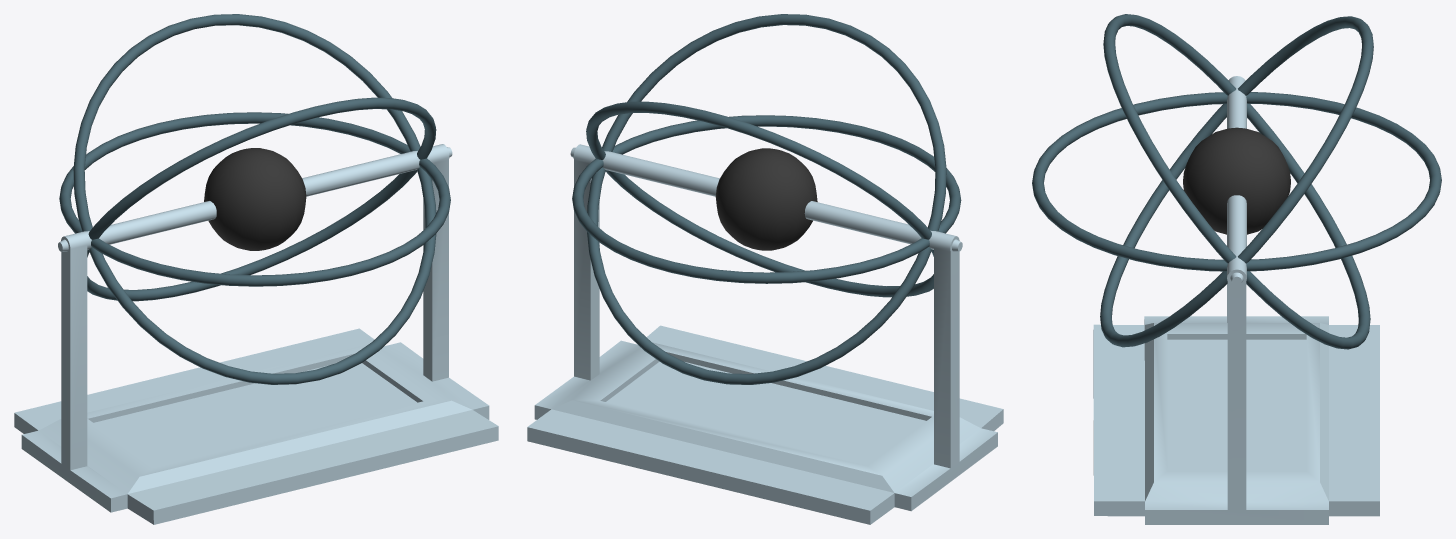
Rendered from Character_Rooms_Atom.fbx.
3 views of the same model, side by side, from view 1: azimuth 30°, elevation 25°; view 2: azimuth 150°, elevation 25°; view 3: azimuth 270°, elevation 25° (orthographic). The views are drawn at different scales.
Parts seen in each view (by area): view 1: Torus.001; view 2: Torus.001; view 3: Torus.001.
Boxes of the visible parts, left/top/right/bottom form: Torus.001: left=14, top=14, right=498, bottom=524; Torus.001: left=527, top=14, right=1003, bottom=524; Torus.001: left=1032, top=14, right=1441, bottom=524.
Bounding box in the file's own units: 87.16 × 79.64 × 75.86.
